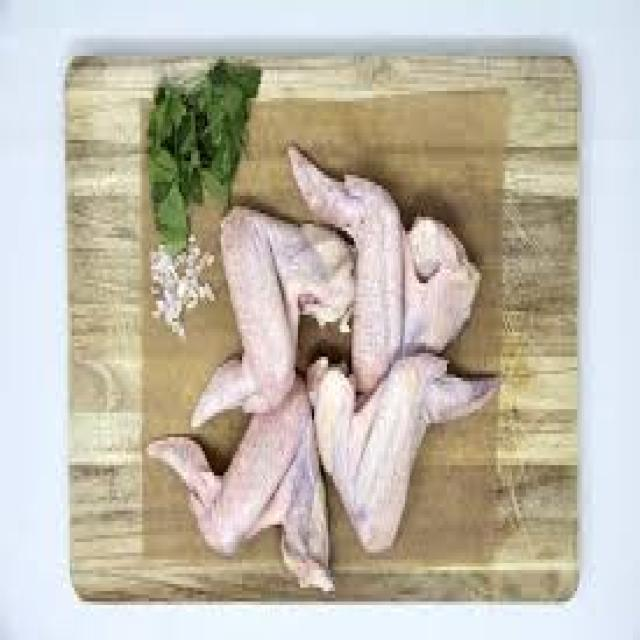wing: (288, 136, 479, 373), (148, 373, 334, 592), (312, 343, 495, 537), (202, 200, 354, 424)
